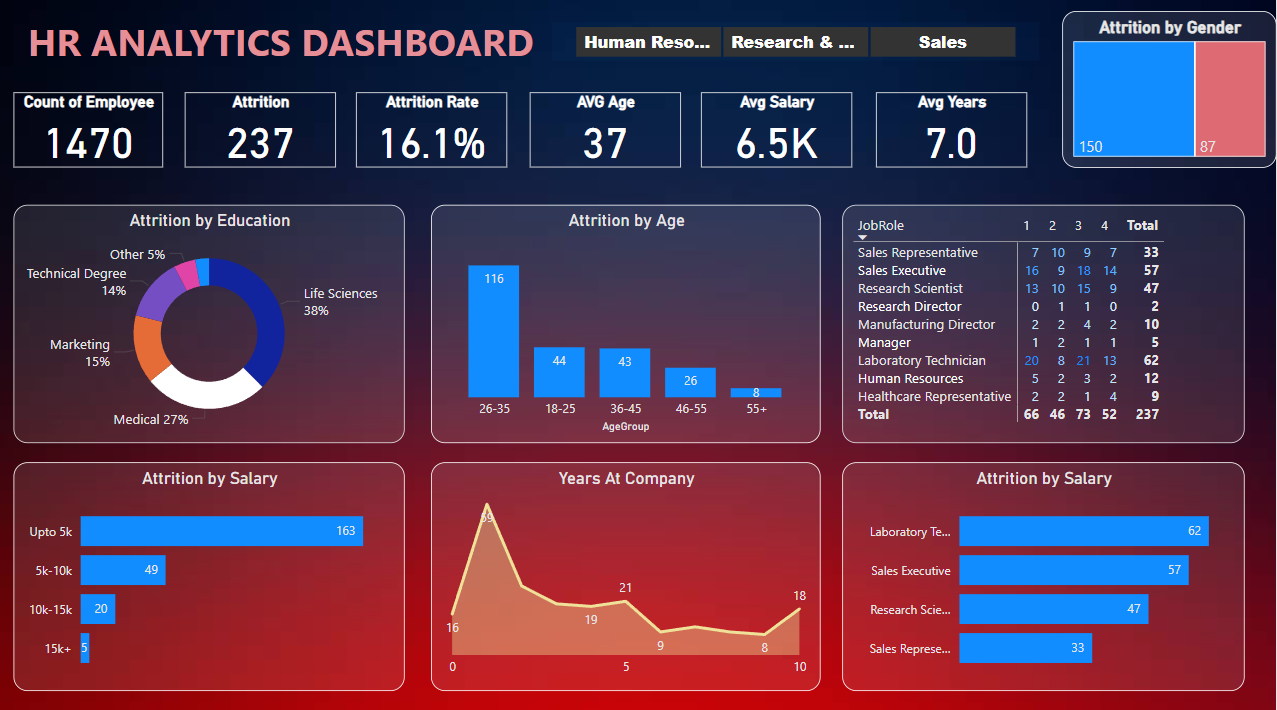

Layout of this report page (visuals, bound fields, positions):
{"tool":"powerbi","page":{"name":"Page 1","canvas":[1280,720],"ordinal":0},"visuals":[{"type":"card","title":"Count of Employee","fields":{"Values":["CountNonNull(HR_Analytics.EmpID)"]},"box":[17.8,96.1,149.6,75.5],"z":0},{"type":"card","title":"Attrition","fields":{"Values":["Sum(HR_Analytics.AttritionCount)"]},"box":[189.4,96.1,150.9,75.5],"z":1000},{"type":"card","title":"Attrition Rate","fields":{"Values":["HR_Analytics.Attrition Rate"]},"box":[359.5,96.1,150.9,75.5],"z":2000},{"type":"card","title":"AVG Age","fields":{"Values":["Avg(HR_Analytics.Age)"]},"box":[533.8,96.1,150.9,75.5],"z":3000},{"type":"card","title":"Avg Years","fields":{"Values":["Avg(HR_Analytics.YearsAtCompany)"]},"box":[879.6,96.1,150.9,75.5],"z":4000},{"type":"card","title":"Avg Salary","fields":{"Values":["Avg(HR_Analytics.MonthlyIncome)"]},"box":[705.3,96.1,150.9,75.5],"z":5000},{"type":"donutChart","title":"Attrition by Education","fields":{"Category":["HR_Analytics.EducationField"],"Y":["Sum(HR_Analytics.AttritionCount)"]},"box":[17.8,208.6,391.1,238.8],"z":6000},{"type":"clusteredColumnChart","title":"Attrition by Age","fields":{"Category":["HR_Analytics.AgeGroup"],"Y":["Sum(HR_Analytics.AttritionCount)"]},"box":[435,208.6,389.7,238.8],"z":7000},{"type":"pivotTable","fields":{"Rows":["HR_Analytics.JobRole"],"Columns":["HR_Analytics.JobSatisfaction"],"Values":["Sum(HR_Analytics.AttritionCount)"]},"box":[846.7,208.6,402.1,238.8],"z":8000},{"type":"clusteredBarChart","title":"Attrition by Salary","fields":{"Category":["HR_Analytics.SalarySlab"],"Y":["Sum(HR_Analytics.AttritionCount)"]},"box":[17.8,466.6,391.1,229.2],"z":9000},{"type":"clusteredBarChart","title":"Attrition by Salary","fields":{"Category":["HR_Analytics.JobRole"],"Y":["Sum(HR_Analytics.AttritionCount)"]},"box":[846.7,466.6,402.1,229.2],"z":10000},{"type":"areaChart","title":"Years At Company ","fields":{"Category":["HR_Analytics.YearsAtCompany"],"Y":["Sum(HR_Analytics.AttritionCount)"]},"box":[435,466.6,389.7,229.2],"z":11000},{"type":"treemap","title":"Attrition by Gender","fields":{"Group":["HR_Analytics.Gender"],"Values":["Sum(HR_Analytics.AttritionCount)"]},"box":[1066.2,15.1,214.1,156.4],"z":12000},{"type":"slicer","fields":{"Values":["HR_Analytics.Department"]},"box":[555.7,26.1,487.1,38.4],"z":13000},{"type":"textbox","box":[13.7,15.1,542,61.7],"z":14000}]}

Visuals, with their boxes in screenshot pixels (x1, y1, x2, y2), scaled from the page's 1280x720 canvas onto the 1277x710 screenshot:
"Count of Employee" card: crop(18, 95, 167, 169)
"Attrition" card: crop(189, 95, 340, 169)
"Attrition Rate" card: crop(359, 95, 509, 169)
"AVG Age" card: crop(533, 95, 683, 169)
"Avg Years" card: crop(878, 95, 1028, 169)
"Avg Salary" card: crop(704, 95, 854, 169)
"Attrition by Education" donutChart: crop(18, 206, 408, 441)
"Attrition by Age" clusteredColumnChart: crop(434, 206, 823, 441)
pivotTable - HR_Analytics.JobRole x HR_Analytics.JobSatisfaction: crop(845, 206, 1246, 441)
"Attrition by Salary" clusteredBarChart: crop(18, 460, 408, 686)
"Attrition by Salary" clusteredBarChart: crop(845, 460, 1246, 686)
"Years At Company " areaChart: crop(434, 460, 823, 686)
"Attrition by Gender" treemap: crop(1064, 15, 1276, 169)
slicer - HR_Analytics.Department: crop(554, 26, 1040, 64)
textbox: crop(14, 15, 554, 76)
